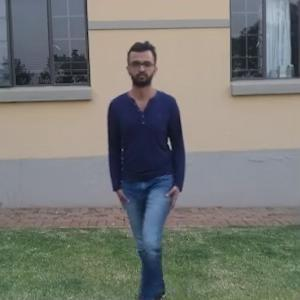follow: (104, 44, 182, 299)
